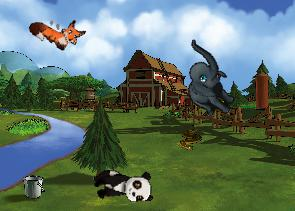elephant: (163, 38, 252, 123)
fox: (26, 2, 88, 58)
panda: (92, 169, 153, 203)
